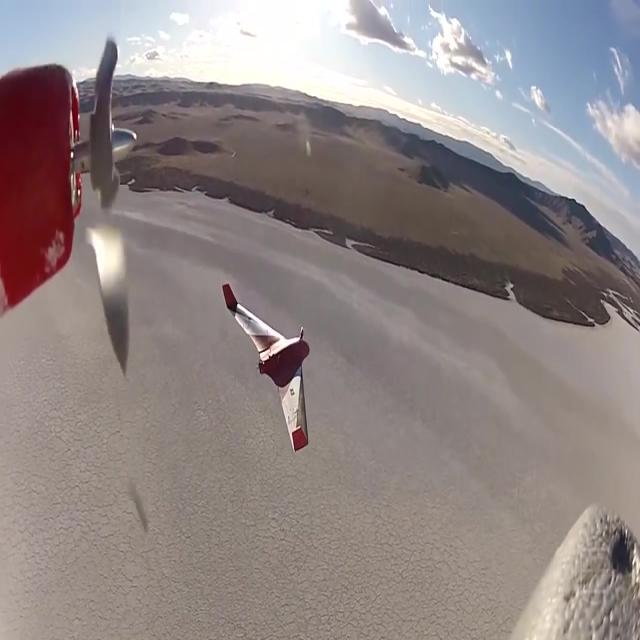iha: (246, 278, 274, 458)
